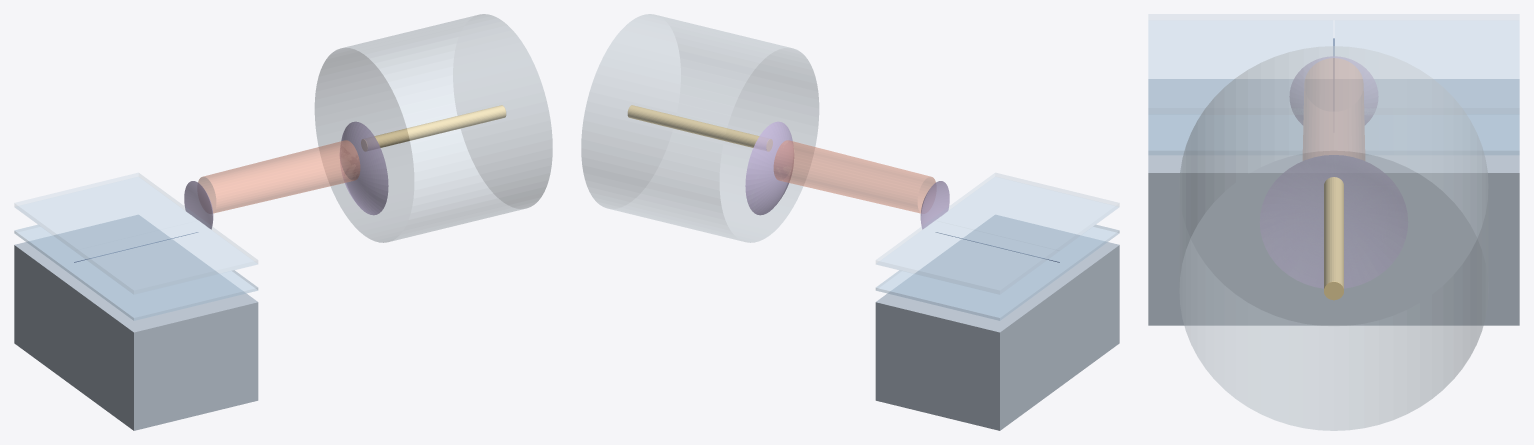
Rendered from stack-faml-x.glb.
The picture shows the model from 3 angles, left to right: view 1: azimuth 30°, elevation 25°; view 2: azimuth 150°, elevation 25°; view 3: azimuth 270°, elevation 25°; orthographic projection. The views are drawn at different scales.
Parts seen in each view (by area): view 1: fclad, sisub, cladd, beam, box, lens, fcore; view 2: fclad, sisub, cladd, beam, box, lens, fcore; view 3: fclad, sisub, cladd, lens, box, beam, fcore.
Boxes of the visible parts, bbox=[...] form: fclad: bbox=[314, 14, 552, 242]; sisub: bbox=[14, 214, 258, 430]; cladd: bbox=[14, 173, 257, 294]; beam: bbox=[198, 140, 360, 213]; box: bbox=[14, 224, 258, 320]; lens: bbox=[184, 121, 388, 229]; fcore: bbox=[361, 105, 506, 151]; fclad: bbox=[581, 14, 819, 242]; sisub: bbox=[875, 214, 1119, 430]; cladd: bbox=[876, 173, 1119, 294]; beam: bbox=[773, 140, 935, 213]; box: bbox=[875, 224, 1119, 320]; lens: bbox=[745, 121, 949, 229]; fcore: bbox=[627, 105, 772, 151]; fclad: bbox=[1179, 46, 1488, 430]; sisub: bbox=[1148, 79, 1519, 325]; cladd: bbox=[1148, 14, 1519, 114]; lens: bbox=[1259, 56, 1407, 288]; box: bbox=[1148, 114, 1519, 155]; beam: bbox=[1303, 58, 1364, 160]; fcore: bbox=[1324, 177, 1343, 300].
Size of the model in its own units: 310 by 181 by 150.
